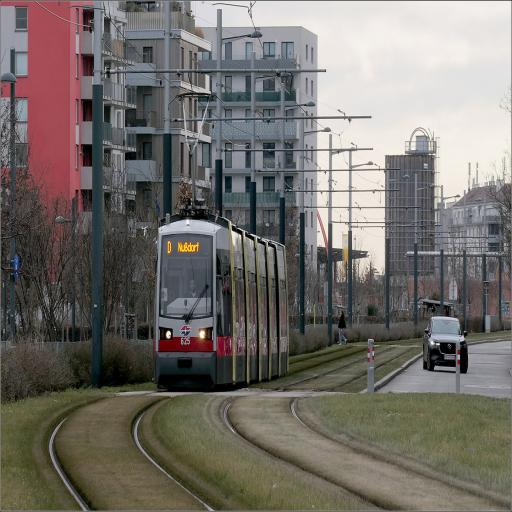ULF: (154, 206, 290, 390)
